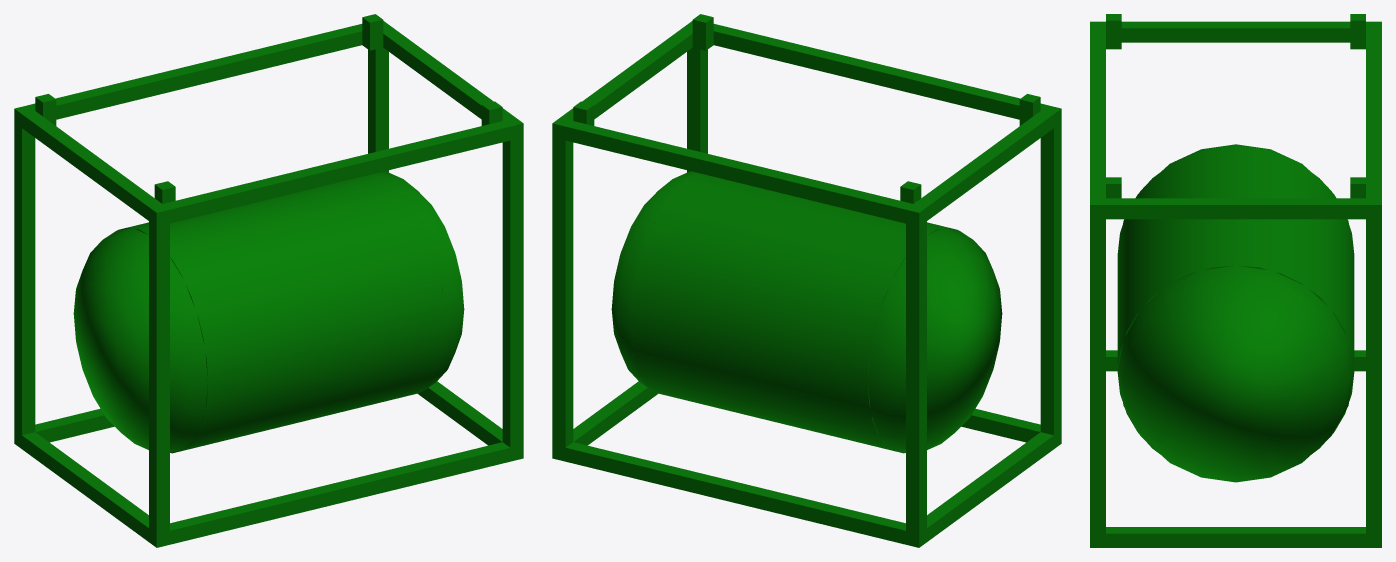
File: Image-1711348062336-2281200045504_56-VS50.fbx
3 renders of one model, left to right at view 1: azimuth 30°, elevation 25°; view 2: azimuth 150°, elevation 25°; view 3: azimuth 270°, elevation 25°, orthographic. The views are drawn at different scales.
Visible parts, largest first — view 1: CYLINDER 1 of SUBEQUIPMENT /56-VS50/DRUM, DISH 1 of SUBEQUIPMENT /56-VS50/DRUM, BOX 4 of SUBEQUIPMENT /56-VS50/FRAME, BOX 3 of SUBEQUIPMENT /56-VS50/FRAME, BOX 2 of SUBEQUIPMENT /56-VS50/FRAME, BOX 12 of SUBEQUIPMENT /56-VS50/FRAME, BOX 10 of SUBEQUIPMENT /56-VS50/FRAME, BOX 11 of SUBEQUIPMENT /56-VS50/FRAME, DISH 2 of SUBEQUIPMENT /56-VS50/DRUM, BOX 8 of SUBEQUIPMENT /56-VS50/FRAME, BOX 7 of SUBEQUIPMENT /56-VS50/FRAME, BOX 6 of SUBEQUIPMENT /56-VS50/FRAME (+4 smaller); view 2: CYLINDER 1 of SUBEQUIPMENT /56-VS50/DRUM, DISH 1 of SUBEQUIPMENT /56-VS50/DRUM, BOX 2 of SUBEQUIPMENT /56-VS50/FRAME, BOX 1 of SUBEQUIPMENT /56-VS50/FRAME, BOX 4 of SUBEQUIPMENT /56-VS50/FRAME, BOX 9 of SUBEQUIPMENT /56-VS50/FRAME, BOX 11 of SUBEQUIPMENT /56-VS50/FRAME, BOX 10 of SUBEQUIPMENT /56-VS50/FRAME, DISH 2 of SUBEQUIPMENT /56-VS50/DRUM, BOX 8 of SUBEQUIPMENT /56-VS50/FRAME, BOX 7 of SUBEQUIPMENT /56-VS50/FRAME, BOX 6 of SUBEQUIPMENT /56-VS50/FRAME (+4 smaller); view 3: DISH 2 of SUBEQUIPMENT /56-VS50/DRUM, CYLINDER 1 of SUBEQUIPMENT /56-VS50/DRUM, BOX 6 of SUBEQUIPMENT /56-VS50/FRAME, BOX 5 of SUBEQUIPMENT /56-VS50/FRAME, BOX 8 of SUBEQUIPMENT /56-VS50/FRAME, BOX 9 of SUBEQUIPMENT /56-VS50/FRAME, BOX 12 of SUBEQUIPMENT /56-VS50/FRAME, BOX 2 of SUBEQUIPMENT /56-VS50/FRAME, BOX 4 of SUBEQUIPMENT /56-VS50/FRAME, BOX 13 of SUBEQUIPMENT /56-VS50/FRAME, BOX 14 of SUBEQUIPMENT /56-VS50/FRAME, BOX 7 of SUBEQUIPMENT /56-VS50/FRAME.
Part boxes in pixels (box(x1,y1,x2,y2)): CYLINDER 1 of SUBEQUIPMENT /56-VS50/DRUM: box(117, 173, 445, 453); DISH 1 of SUBEQUIPMENT /56-VS50/DRUM: box(73, 227, 207, 452); BOX 4 of SUBEQUIPMENT /56-VS50/FRAME: box(149, 118, 523, 226); BOX 3 of SUBEQUIPMENT /56-VS50/FRAME: box(149, 442, 523, 547); BOX 2 of SUBEQUIPMENT /56-VS50/FRAME: box(14, 21, 388, 127); BOX 12 of SUBEQUIPMENT /56-VS50/FRAME: box(502, 137, 523, 447); BOX 10 of SUBEQUIPMENT /56-VS50/FRAME: box(14, 123, 35, 435); BOX 11 of SUBEQUIPMENT /56-VS50/FRAME: box(149, 221, 169, 533); DISH 2 of SUBEQUIPMENT /56-VS50/DRUM: box(379, 171, 464, 391); BOX 8 of SUBEQUIPMENT /56-VS50/FRAME: box(22, 111, 161, 220); BOX 7 of SUBEQUIPMENT /56-VS50/FRAME: box(22, 432, 148, 541); BOX 6 of SUBEQUIPMENT /56-VS50/FRAME: box(383, 24, 515, 120); CYLINDER 1 of SUBEQUIPMENT /56-VS50/DRUM: box(630, 173, 958, 453); DISH 1 of SUBEQUIPMENT /56-VS50/DRUM: box(868, 227, 1002, 452); BOX 2 of SUBEQUIPMENT /56-VS50/FRAME: box(552, 118, 926, 226); BOX 1 of SUBEQUIPMENT /56-VS50/FRAME: box(552, 442, 926, 547); BOX 4 of SUBEQUIPMENT /56-VS50/FRAME: box(687, 21, 1061, 127); BOX 9 of SUBEQUIPMENT /56-VS50/FRAME: box(552, 137, 573, 447); BOX 11 of SUBEQUIPMENT /56-VS50/FRAME: box(1040, 123, 1061, 435); BOX 10 of SUBEQUIPMENT /56-VS50/FRAME: box(906, 221, 926, 533); DISH 2 of SUBEQUIPMENT /56-VS50/DRUM: box(611, 171, 696, 391); BOX 8 of SUBEQUIPMENT /56-VS50/FRAME: box(914, 111, 1053, 220); BOX 7 of SUBEQUIPMENT /56-VS50/FRAME: box(927, 432, 1053, 541); BOX 6 of SUBEQUIPMENT /56-VS50/FRAME: box(560, 24, 692, 120); DISH 2 of SUBEQUIPMENT /56-VS50/DRUM: box(1117, 265, 1354, 482); CYLINDER 1 of SUBEQUIPMENT /56-VS50/DRUM: box(1117, 147, 1354, 453); BOX 6 of SUBEQUIPMENT /56-VS50/FRAME: box(1106, 198, 1365, 219); BOX 5 of SUBEQUIPMENT /56-VS50/FRAME: box(1106, 527, 1365, 547); BOX 8 of SUBEQUIPMENT /56-VS50/FRAME: box(1121, 21, 1350, 42); BOX 9 of SUBEQUIPMENT /56-VS50/FRAME: box(1366, 219, 1381, 533); BOX 12 of SUBEQUIPMENT /56-VS50/FRAME: box(1090, 219, 1105, 533); BOX 2 of SUBEQUIPMENT /56-VS50/FRAME: box(1366, 21, 1381, 219); BOX 4 of SUBEQUIPMENT /56-VS50/FRAME: box(1090, 21, 1105, 219); BOX 13 of SUBEQUIPMENT /56-VS50/FRAME: box(1350, 14, 1365, 49); BOX 14 of SUBEQUIPMENT /56-VS50/FRAME: box(1106, 14, 1121, 49); BOX 7 of SUBEQUIPMENT /56-VS50/FRAME: box(1106, 350, 1365, 371).
Bounding box in the file's own units: 2.75 × 1.85 × 2.5.
